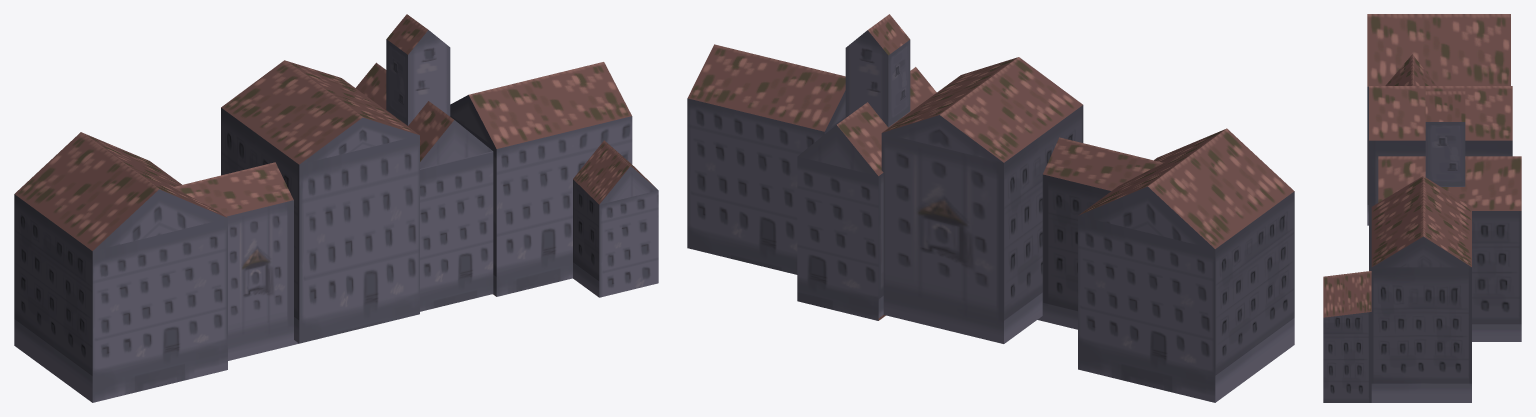
Rendered from obstacle_house3.fbx.
3 renders of one model, left to right at view 1: azimuth 30°, elevation 25°; view 2: azimuth 150°, elevation 25°; view 3: azimuth 270°, elevation 25°, orthographic. The views are drawn at different scales.
Visible parts, largest first — view 1: obstacle_houses3; view 2: obstacle_houses3; view 3: obstacle_houses3.
Boxes of the visible parts, <box> form: obstacle_houses3: <box>14,14,658,402</box>; obstacle_houses3: <box>687,14,1294,402</box>; obstacle_houses3: <box>1323,14,1521,402</box>.
Size of the model in its own units: 4001 by 1835 by 1384.
Materials: 1 (1 with a texture image).
